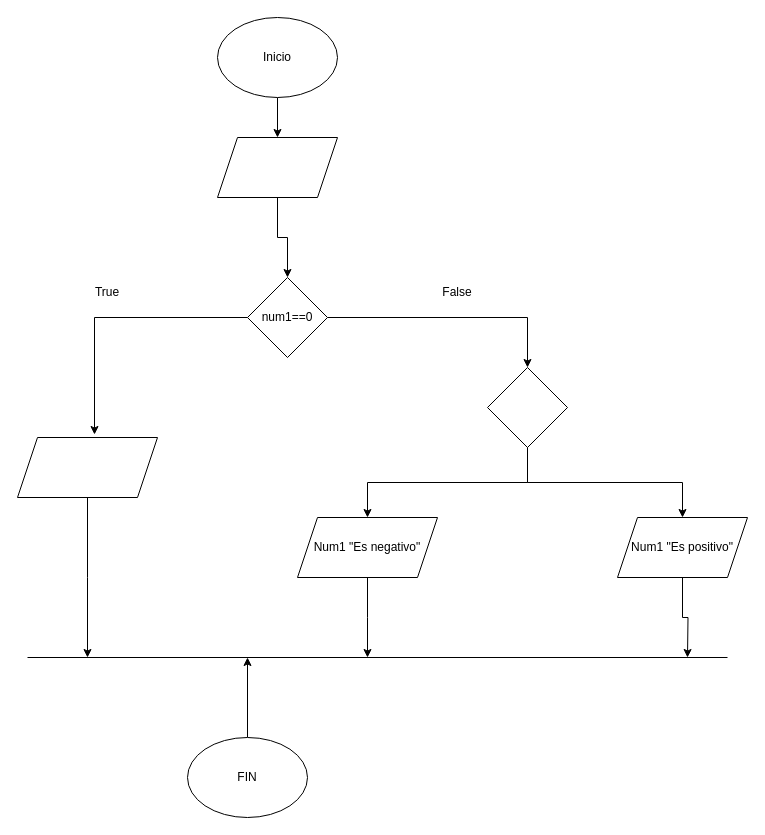
The diagram is 765 pixels wide and 835 high, and some of its shapes have lost their labels. The shapes that lost their labels are listed below. From the top down, each one's centre as x and y in pixels, then its label:
(x=277, y=167): Leer num1
(x=527, y=407): Num1 < 0
(x=87, y=467): num1 "es 0"
